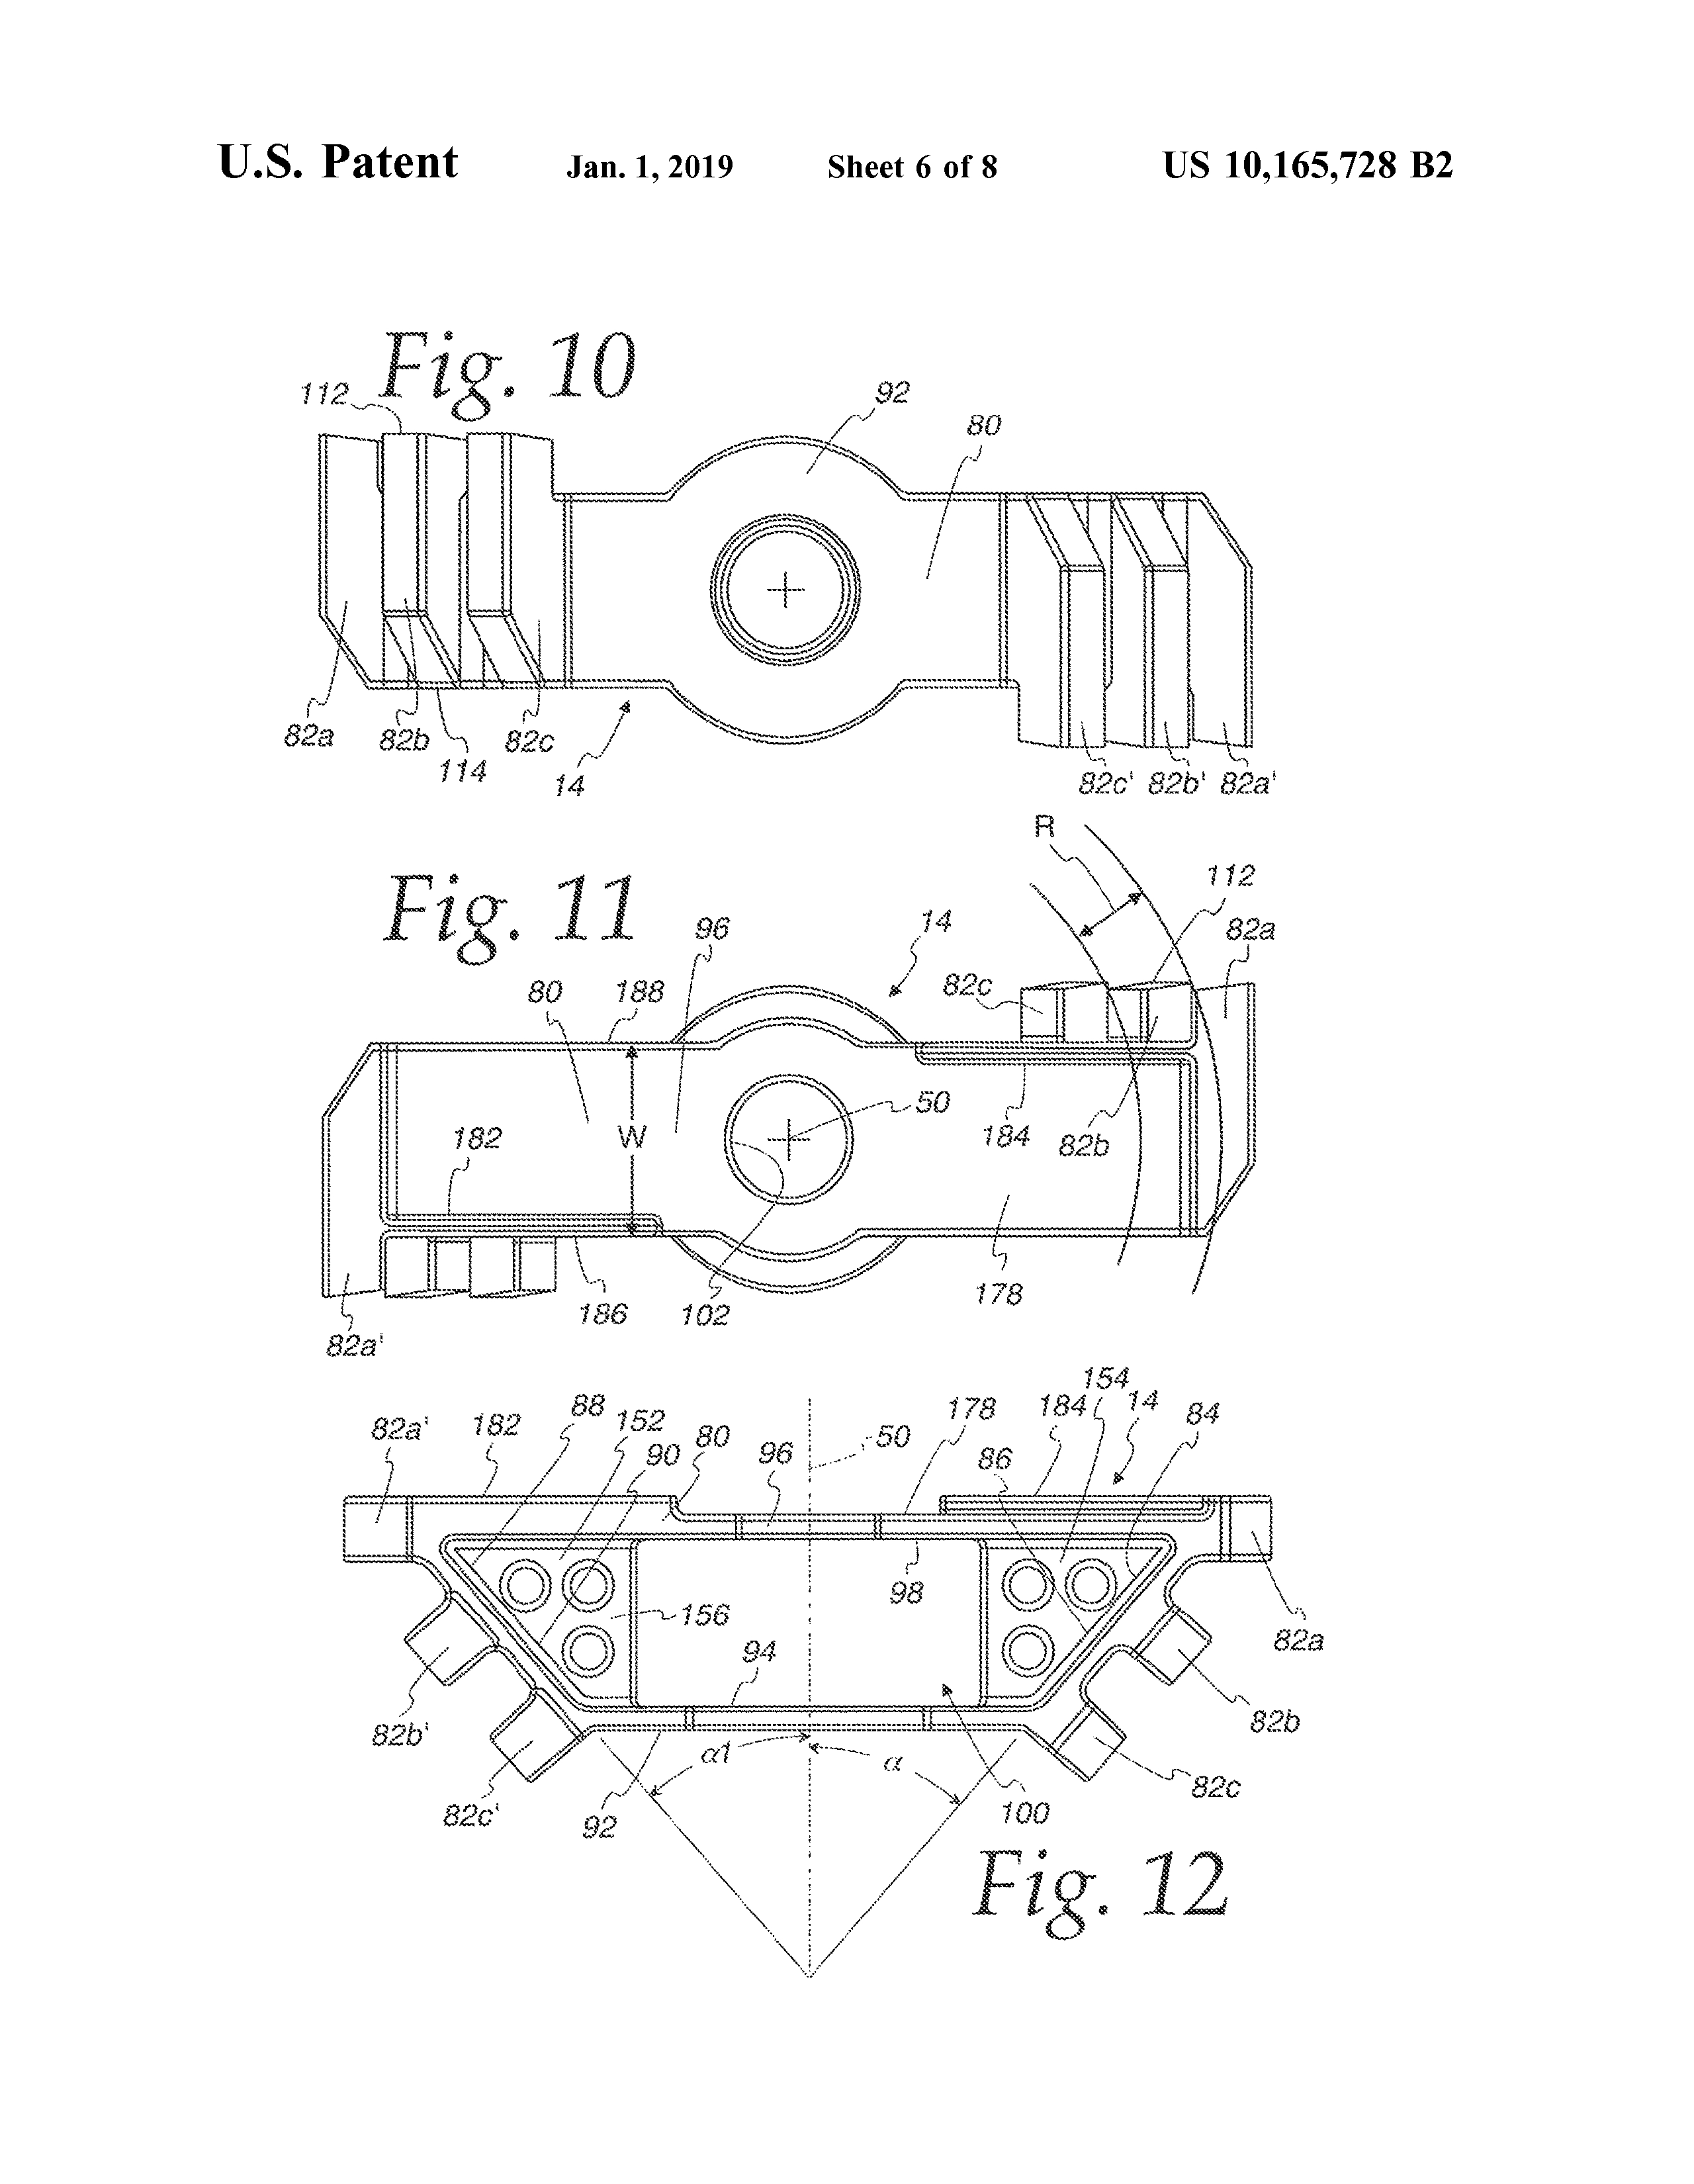patent image: (328, 1367, 1334, 1968), (304, 809, 1320, 1373), (249, 314, 1351, 823)
